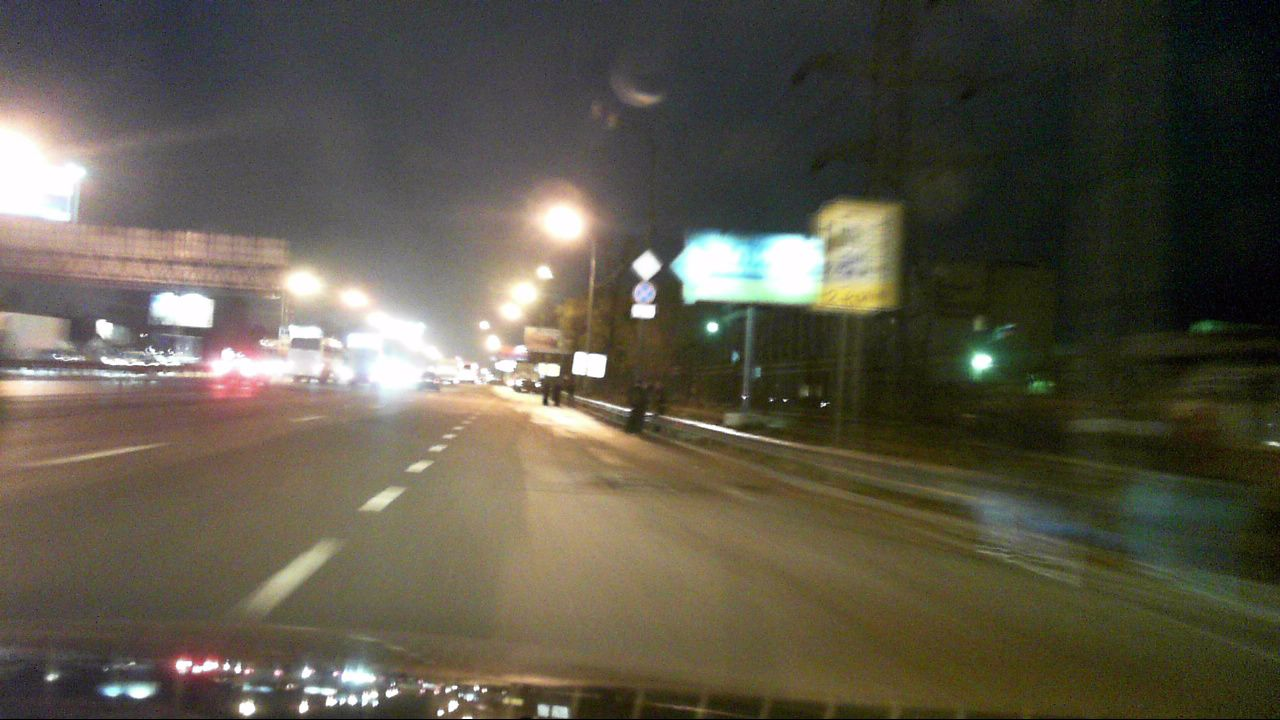No Parking: (629, 283, 655, 304)
